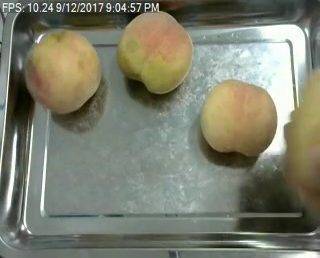Peach: (25, 28, 104, 116), (118, 10, 192, 92), (199, 80, 276, 157)
